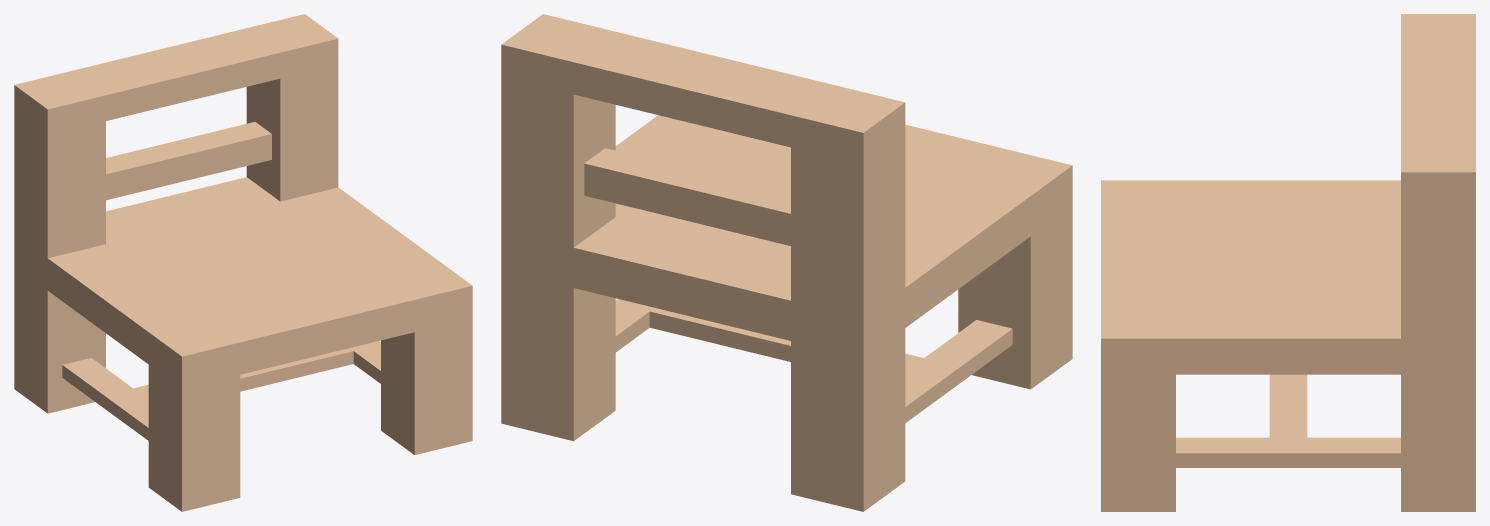
Rendered from kn-chair.glb.
The picture shows the model from 3 angles, left to right: view 1: azimuth 30°, elevation 25°; view 2: azimuth 150°, elevation 25°; view 3: azimuth 270°, elevation 25°; orthographic projection. The views are drawn at different scales.
Parts seen in each view (by area): view 1: chair(Clone); view 2: chair(Clone); view 3: chair(Clone).
Boxes of the visible parts, box(x1,y1,x2,y2) form: chair(Clone): box(14, 14, 472, 511); chair(Clone): box(501, 14, 1072, 511); chair(Clone): box(1101, 14, 1475, 511).
Size of the model in its own units: 1 by 1 by 1.
